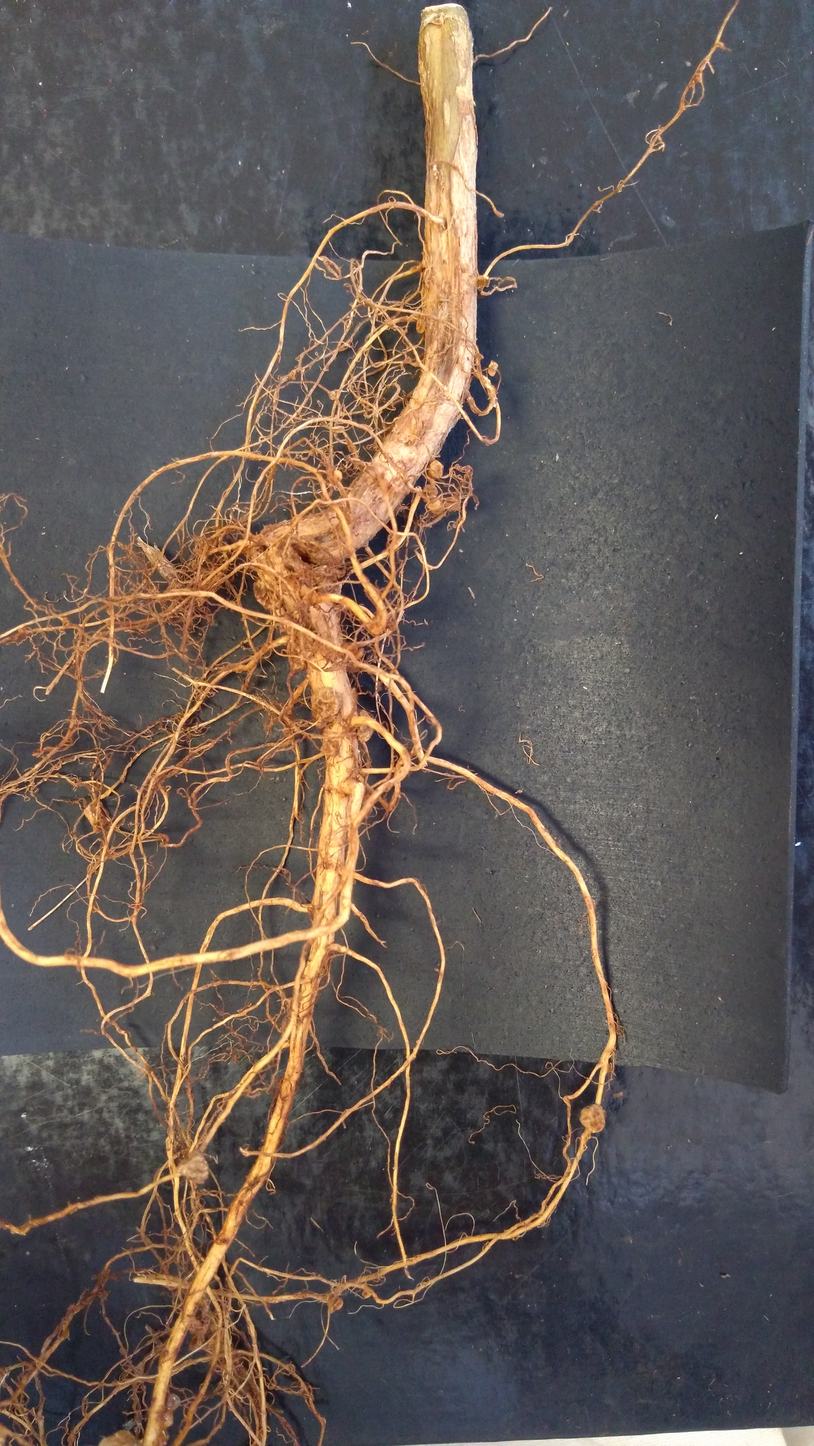nodule: (175, 1146, 215, 1194), (577, 1100, 610, 1141), (310, 687, 340, 728), (354, 705, 378, 744), (252, 579, 282, 608), (82, 798, 105, 834), (206, 1334, 233, 1359), (286, 640, 306, 670), (340, 641, 365, 660), (426, 457, 445, 481), (164, 1390, 183, 1414), (420, 482, 440, 504), (444, 493, 463, 515), (423, 498, 445, 516), (485, 358, 501, 381), (474, 271, 489, 294), (319, 741, 339, 758), (414, 316, 429, 337), (331, 466, 346, 487), (327, 1295, 344, 1311), (187, 1334, 202, 1352), (162, 1412, 174, 1428)
